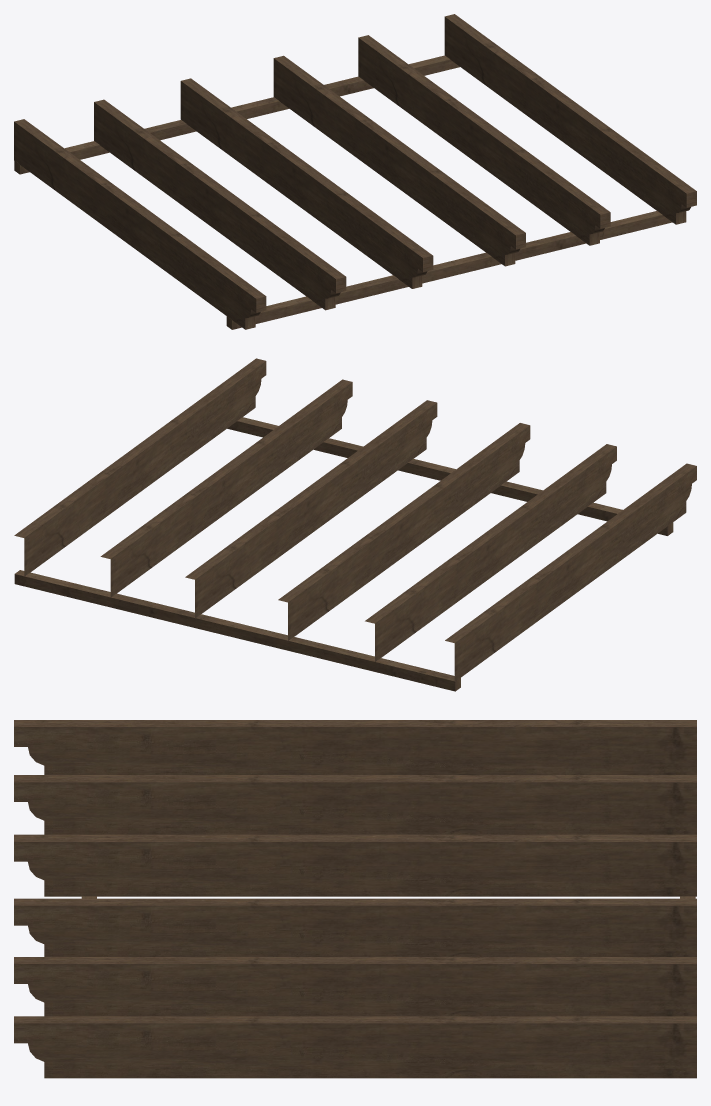
File: SM_Veranda_02.glb
3 views of the same model, one above another, from view 1: azimuth 30°, elevation 25°; view 2: azimuth 150°, elevation 25°; view 3: azimuth 270°, elevation 25° (orthographic). The views are drawn at different scales.
Visible parts, largest first — view 1: SM_Veranda_02; view 2: SM_Veranda_02; view 3: SM_Veranda_02.
Part boxes in pixels (x1=…): SM_Veranda_02: x1=14, y1=14, x2=696, y2=329; SM_Veranda_02: x1=14, y1=358, x2=696, y2=691; SM_Veranda_02: x1=14, y1=720, x2=696, y2=1078.
Size of the model in its own units: 2 by 0.2108 by 1.9.
Materials: 1 (1 with a texture image).
